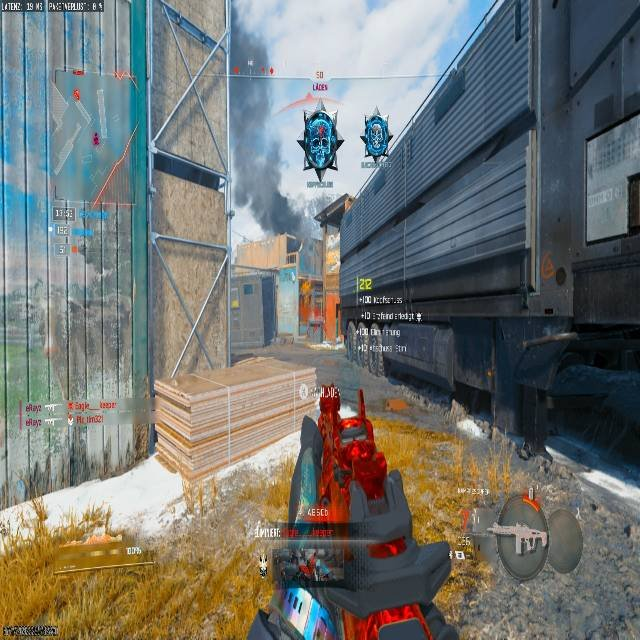player: (296, 107, 343, 182), (360, 115, 391, 160)
